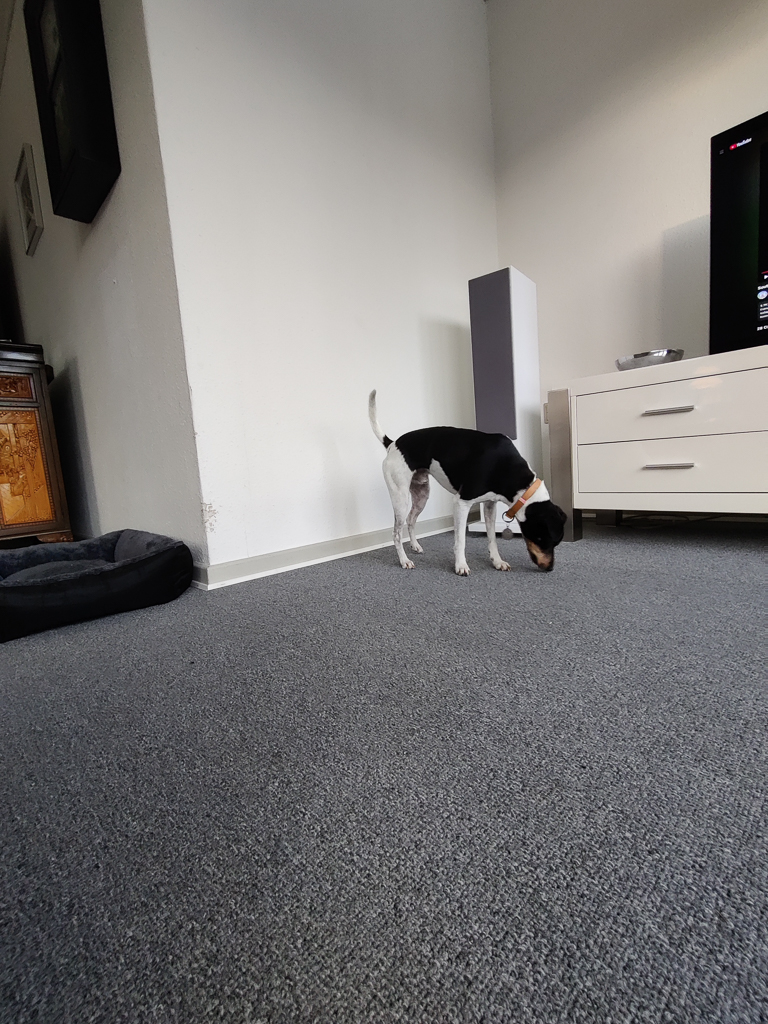Dog: (359, 380, 572, 589)
